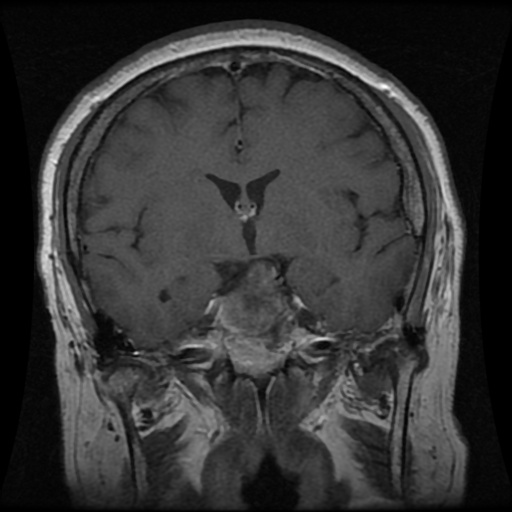pituitary: (204, 261, 309, 375)
